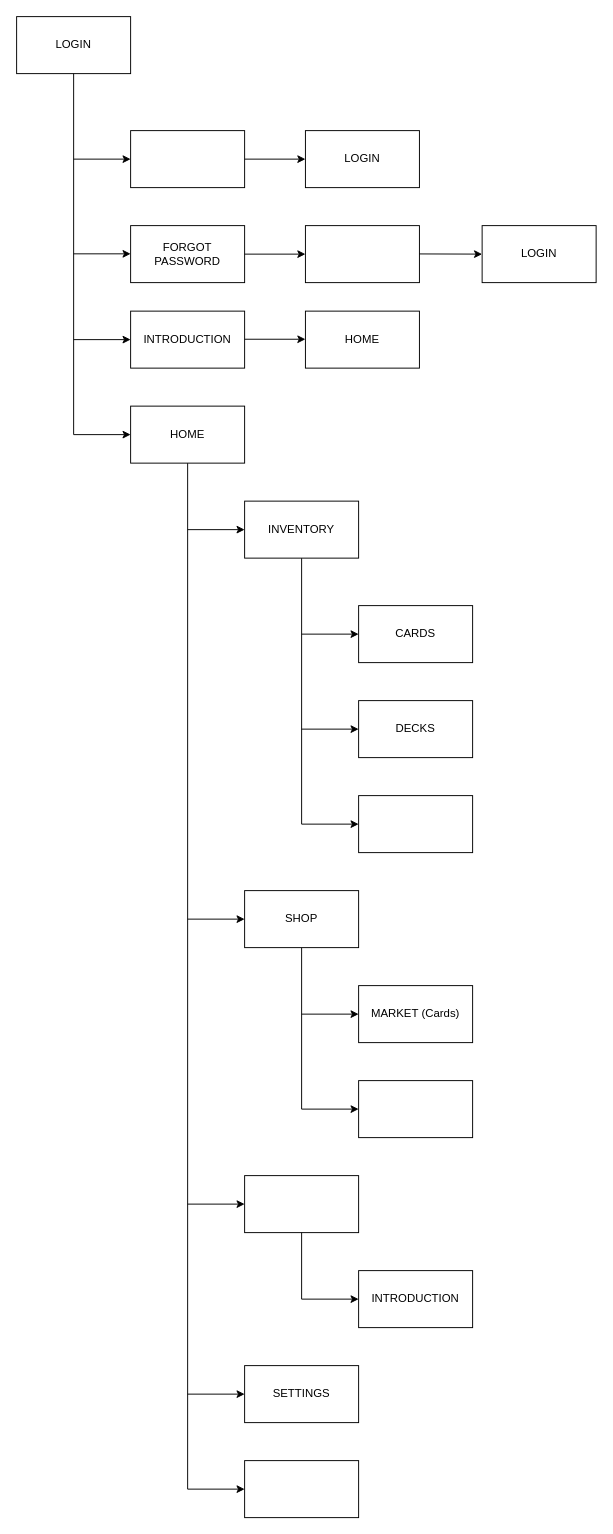
The diagram is 613 pixels wide and 1534 high, and some of its shapes have lost their labels. Here are the shapes that lost their labels. From the top down, the centre of each, then its label:
point 187,159: REGISTER
point 361,254: CHANGE PASSWORD
point 415,824: PACKS
point 415,1109: SHOP (Packs)
point 301,1204: INFORMATION
point 301,1489: BATTLE
